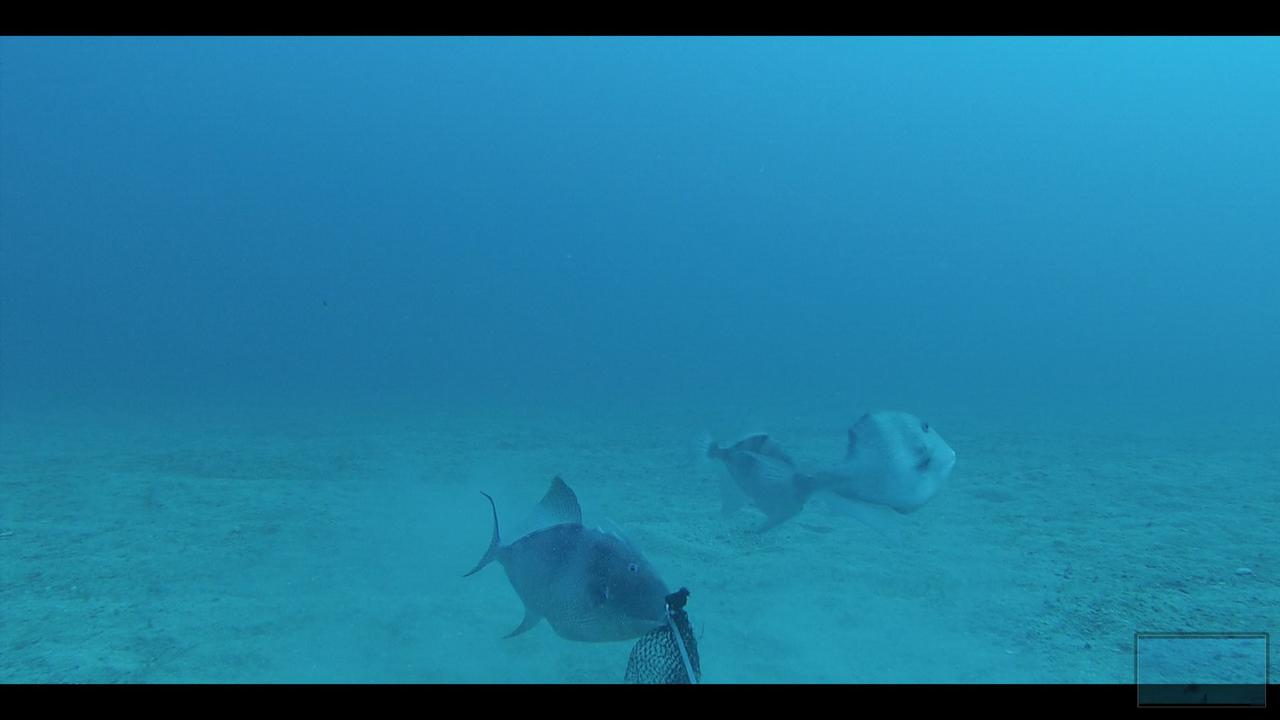balistes: (455, 472, 673, 646), (730, 398, 962, 547), (674, 406, 810, 523)
